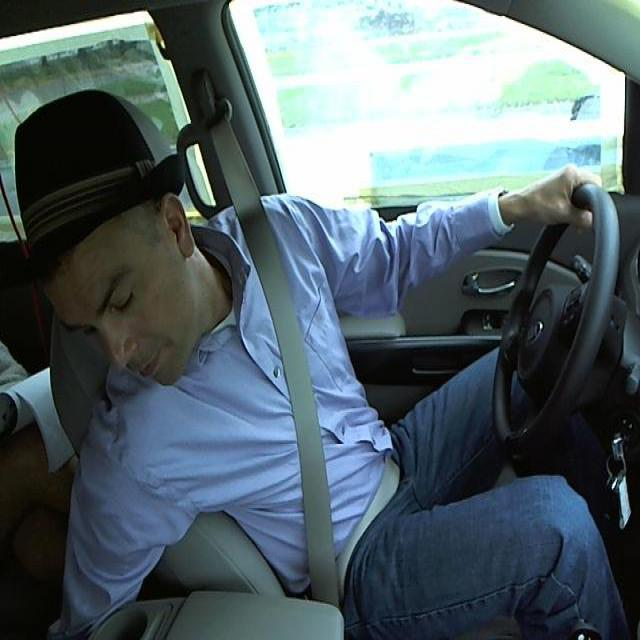seatbelt: (238, 211, 368, 600)
